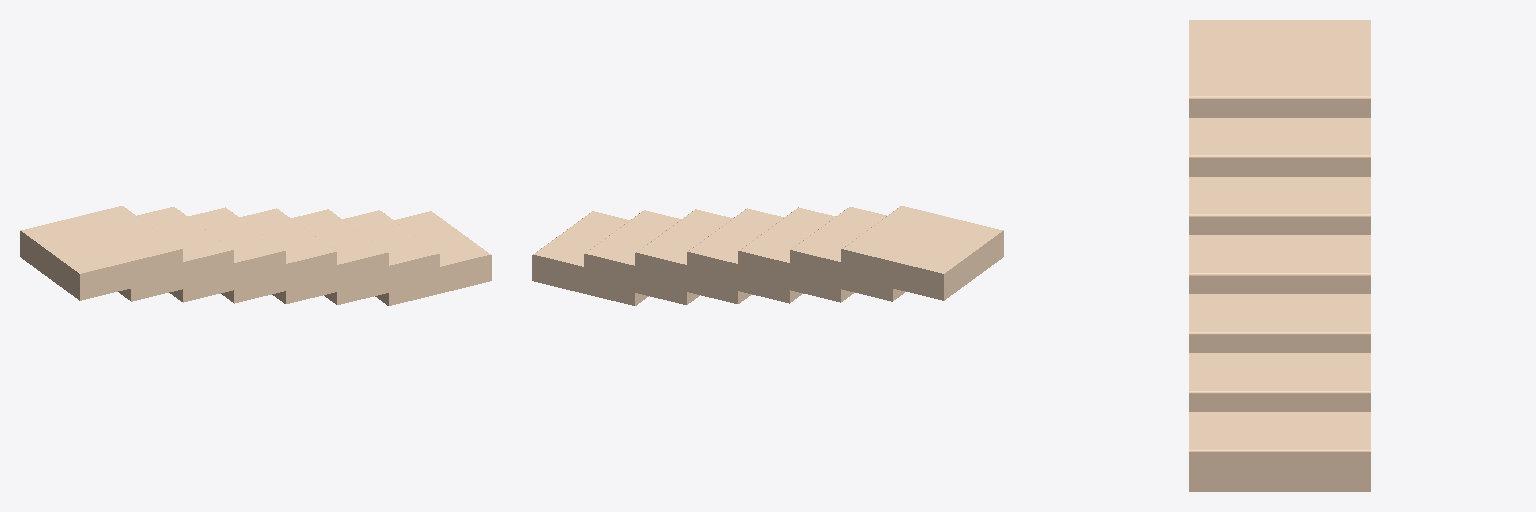
The robot description file, URDF, robot "stairs":
<?xml version="1.0" ?>
<robot name="stairs">
  <link name="world"/>

  <link name="stepOne">
  <contact>
      <lateral_friction value="1"/>
  </contact>
    <inertial>
      <origin rpy="0 0 0" xyz="0 0 0"/>
       <mass value=".0"/>
       <inertia ixx="0" ixy="0" ixz="0" iyy="0" iyz="0" izz="0"/>
    </inertial>
    <visual>
      <origin rpy="1.570796327 0 0" xyz="0 0 0"/>
      <geometry name="smoothStep">
        <mesh filename="assets/smooth_step.obj" scale="1 1 1"/>
      </geometry>
       <material name="beige"></material>
    </visual>
    <collision>
      <origin rpy="1.570796327 0 0" xyz="0 0 0"/>
      <geometry name="smoothStep">
        <mesh filename="assets/smooth_step.obj" scale="1 1 1"/>
      </geometry>
    </collision>
  </link>

  <link name="stepTwo">
  <contact>
      <lateral_friction value="1"/>
  </contact>
    <inertial>
      <origin rpy="0 0 0" xyz="0 0 0"/>
       <mass value=".0"/>
       <inertia ixx="0" ixy="0" ixz="0" iyy="0" iyz="0" izz="0"/>
    </inertial>
    <visual>
      <origin rpy="1.570796327 0 0" xyz="0 0 0"/>
      <geometry>
        <mesh filename="assets/smooth_step.obj" scale="1 1 1"/>
      </geometry>
       <material name="beige">
        <color rgba="1 0.9 0.8 1"/>
      </material>
    </visual>
    <collision>
      <origin rpy="1.570796327 0 0" xyz="0 0 0"/>
      <geometry>
        <mesh filename="assets/smooth_step.obj" scale="1 1 1"/>
      </geometry>
    </collision>
  </link>

  <link name="stepThree">
  <contact>
      <lateral_friction value="1"/>
  </contact>
    <inertial>
      <origin rpy="0 0 0" xyz="0 0 0"/>
       <mass value=".0"/>
       <inertia ixx="0" ixy="0" ixz="0" iyy="0" iyz="0" izz="0"/>
    </inertial>
    <visual>
      <origin rpy="1.570796327 0 0" xyz="0 0 0"/>
      <geometry>
        <mesh filename="assets/smooth_step.obj" scale="1 1 1"/>
      </geometry>
       <material name="beige"></material>
    </visual>
    <collision>
      <origin rpy="1.570796327 0 0" xyz="0 0 0"/>
      <geometry>
        <mesh filename="assets/smooth_step.obj" scale="1 1 1"/>
      </geometry>
    </collision>
  </link>

  <link name="stepFour">
  <contact>
      <lateral_friction value="1"/>
  </contact>
    <inertial>
      <origin rpy="0 0 0" xyz="0 0 0"/>
       <mass value=".0"/>
       <inertia ixx="0" ixy="0" ixz="0" iyy="0" iyz="0" izz="0"/>
    </inertial>
    <visual>
      <origin rpy="1.570796327 0 0" xyz="0 0 0"/>
      <geometry>
        <mesh filename="assets/smooth_step.obj" scale="1 1 1"/>
      </geometry>
       <material name="beige"></material>
    </visual>
    <collision>
      <origin rpy="1.570796327 0 0" xyz="0 0 0"/>
      <geometry>
        <mesh filename="assets/smooth_step.obj" scale="1 1 1"/>
      </geometry>
    </collision>
  </link>

    <link name="stepFive">
  <contact>
      <lateral_friction value="1"/>
  </contact>
    <inertial>
      <origin rpy="0 0 0" xyz="0 0 0"/>
       <mass value=".0"/>
       <inertia ixx="0" ixy="0" ixz="0" iyy="0" iyz="0" izz="0"/>
    </inertial>
    <visual>
      <origin rpy="1.570796327 0 0" xyz="0 0 0"/>
      <geometry>
        <mesh filename="assets/smooth_step.obj" scale="1 1 1"/>
      </geometry>
       <material name="beige"></material>
    </visual>
    <collision>
      <origin rpy="1.570796327 0 0" xyz="0 0 0"/>
      <geometry>
        <mesh filename="assets/smooth_step.obj" scale="1 1 1"/>
      </geometry>
    </collision>
  </link>

  <link name="stepSix">
  <contact>
      <lateral_friction value="1"/>
  </contact>
    <inertial>
      <origin rpy="0 0 0" xyz="0 0 0"/>
       <mass value=".0"/>
       <inertia ixx="0" ixy="0" ixz="0" iyy="0" iyz="0" izz="0"/>
    </inertial>
    <visual>
      <origin rpy="1.570796327 0 0" xyz="0 0 0"/>
      <geometry>
        <mesh filename="assets/smooth_step.obj" scale="1 1 1"/>
      </geometry>
       <material name="beige"></material>
    </visual>
    <collision>
      <origin rpy="1.570796327 0 0" xyz="0 0 0"/>
      <geometry>
        <mesh filename="assets/smooth_step.obj" scale="1 1 1"/>
      </geometry>
    </collision>
  </link>

  <link name="stepSeven">
  <contact>
      <lateral_friction value="1"/>
  </contact>
    <inertial>
      <origin rpy="0 0 0" xyz="0 0 0"/>
       <mass value=".0"/>
       <inertia ixx="0" ixy="0" ixz="0" iyy="0" iyz="0" izz="0"/>
    </inertial>
    <visual>
      <origin rpy="1.570796327 0 0" xyz="0 0 0"/>
      <geometry>
        <mesh filename="assets/smooth_step.obj" scale="1 1 1"/>
      </geometry>
       <material name="beige"></material>
    </visual>
    <collision>
      <origin rpy="1.570796327 0 0" xyz="0 0 0"/>
      <geometry>
        <mesh filename="assets/smooth_step.obj" scale="1 1 1"/>
      </geometry>
    </collision>
  </link>

  <!-- Joints -->
  <joint name="world_to_stepOne" type="fixed">
    <parent link="world"/>
    <child link="stepOne"/>
    <origin rpy="0 0 0" xyz="6 0 0"/>
  </joint>

  <joint name="stepOne_to_stepTwo" type="fixed">
    <parent link="stepOne"/>
    <child link="stepTwo"/>
    <origin rpy="0 0 0" xyz="-1 0 0.25"/>
  </joint>
  
  <joint name="stepTwo_to_stepThree" type="fixed">
    <parent link="stepTwo"/>
    <child link="stepThree"/>
    <origin rpy="0 0 0" xyz="-1 0 0.25"/>
  </joint>

  <joint name="stepThree_to_stepFour" type="fixed">
    <parent link="stepThree"/>
    <child link="stepFour"/>
    <origin rpy="0 0 0" xyz="-1 0 0.25"/>
  </joint>

  <joint name="stepFour_to_stepFive" type="fixed">
    <parent link="stepFour"/>
    <child link="stepFive"/>
    <origin rpy="0 0 0" xyz="-1 0 0.25"/>
  </joint>

  <joint name="stepFive_to_stepSix" type="fixed">
    <parent link="stepFive"/>
    <child link="stepSix"/>
    <origin rpy="0 0 0" xyz="-1 0 0.25"/>
  </joint>

  <joint name="stepSix_to_stepSeven" type="fixed">
    <parent link="stepSix"/>
    <child link="stepSeven"/>
    <origin rpy="0 0 0" xyz="-1 0 0.25"/>
  </joint>

</robot>

--- Facts derived from the render (not from the file) ---
3 views of the same robot in one strip: view 1: azimuth 30°, elevation 25°; view 2: azimuth 150°, elevation 25°; view 3: azimuth 270°, elevation 25° (orthographic).
Model stairs with 8 links and 7 joints (7 fixed), rooted at world, posed all joints at 0.
Visible links, largest first — view 1: stepSeven, stepOne, stepFive, stepSix, stepTwo, stepFour, stepThree; view 2: stepSeven, stepOne, stepFour, stepSix, stepThree, stepFive, stepTwo; view 3: stepSeven, stepOne, stepTwo, stepThree, stepFour, stepSix, stepFive.
Link boxes in pixels (x1=…): stepSeven: x1=20, y1=206, x2=182, y2=300; stepOne: x1=375, y1=211, x2=491, y2=305; stepFive: x1=169, y1=207, x2=285, y2=302; stepSix: x1=118, y1=207, x2=233, y2=301; stepTwo: x1=324, y1=210, x2=439, y2=304; stepFour: x1=221, y1=208, x2=336, y2=303; stepThree: x1=272, y1=209, x2=388, y2=303; stepSeven: x1=841, y1=206, x2=1003, y2=300; stepOne: x1=532, y1=211, x2=648, y2=305; stepFour: x1=687, y1=208, x2=802, y2=303; stepSix: x1=790, y1=207, x2=905, y2=301; stepThree: x1=635, y1=209, x2=751, y2=303; stepFive: x1=738, y1=207, x2=854, y2=302; stepTwo: x1=584, y1=210, x2=699, y2=304; stepSeven: x1=1189, y1=20, x2=1370, y2=117; stepOne: x1=1189, y1=412, x2=1370, y2=491; stepTwo: x1=1189, y1=353, x2=1370, y2=411; stepThree: x1=1189, y1=294, x2=1370, y2=352; stepFour: x1=1189, y1=235, x2=1370, y2=293; stepSix: x1=1189, y1=118, x2=1370, y2=176; stepFive: x1=1189, y1=177, x2=1370, y2=234.
Size in the robot's own frame: 8 by 2 by 2 metres.
7 mesh visuals loaded from 1 distinct referenced files (1 OBJ).